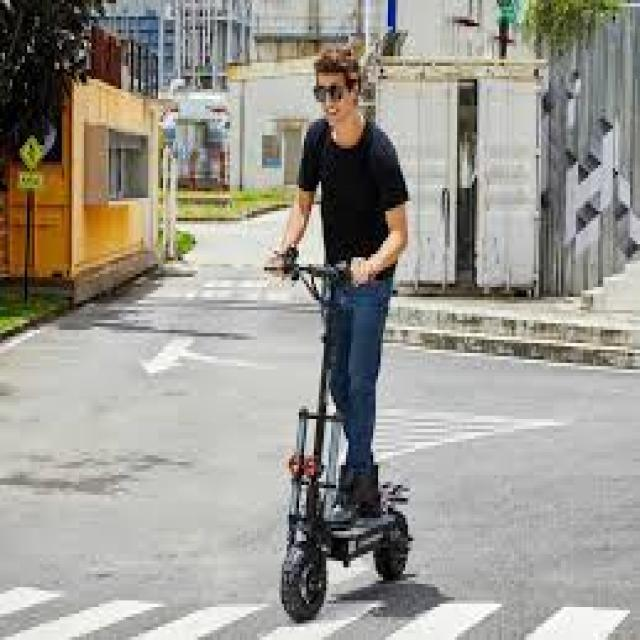non-helmet: (250, 38, 424, 632)
